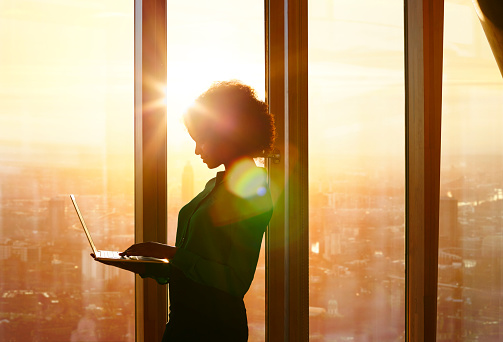em pe: (116, 81, 264, 342)
